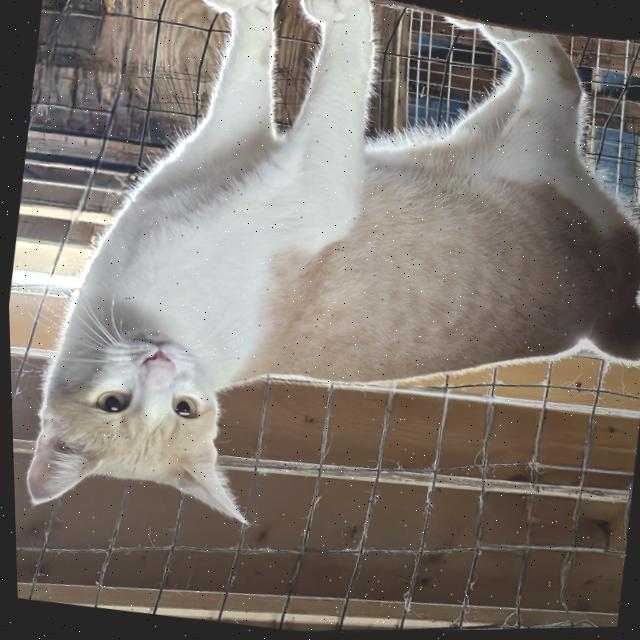American Bobtail: (1, 0, 640, 588)
